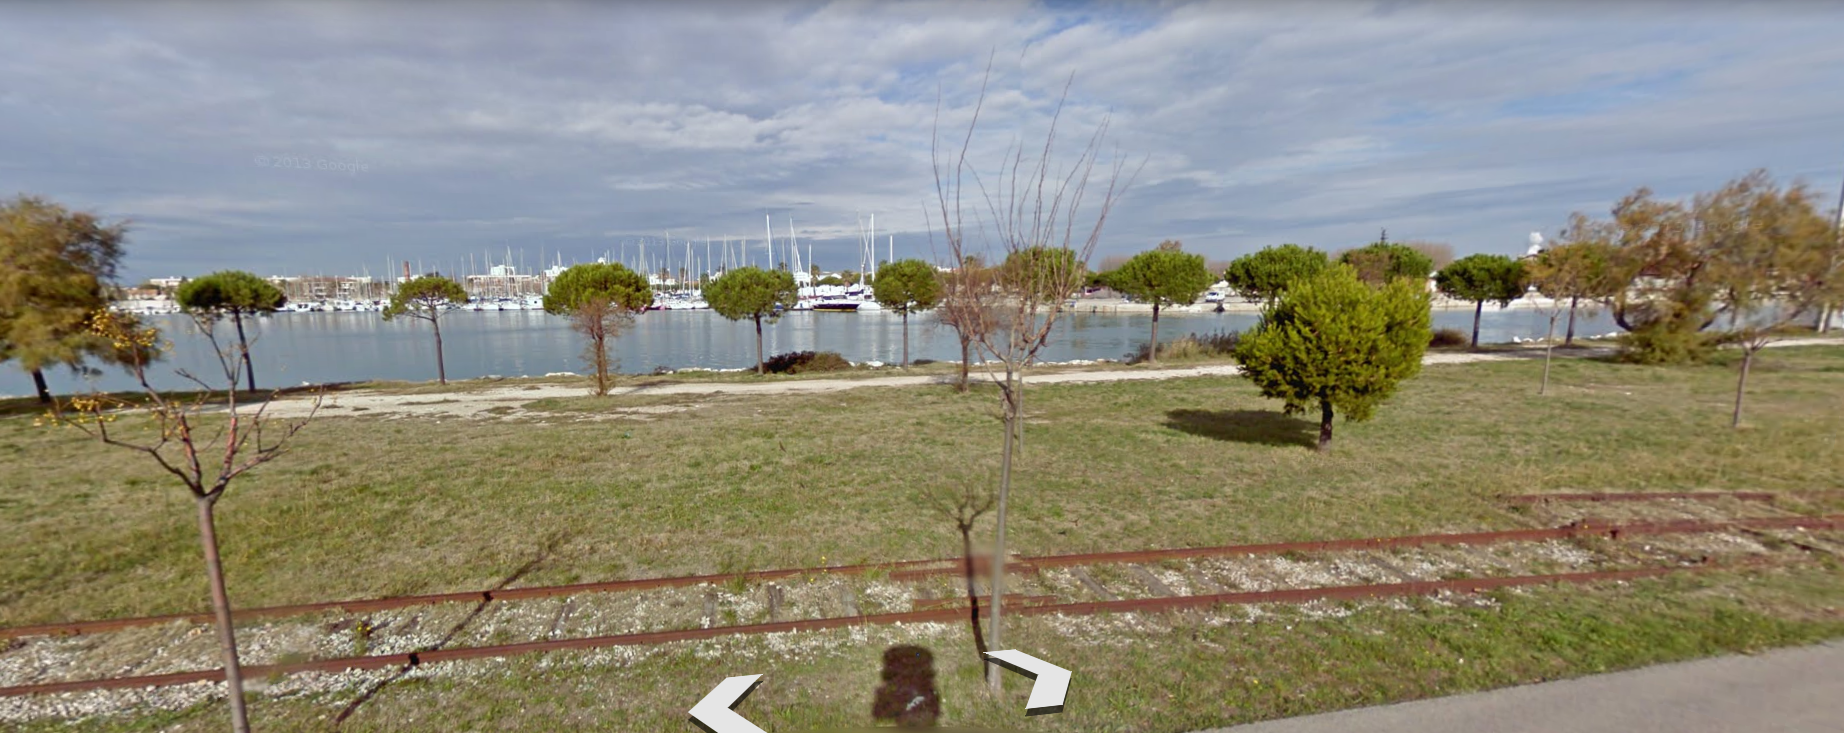Tree: (8, 192, 158, 425), (1249, 268, 1429, 455), (1543, 187, 1703, 379), (179, 254, 318, 397), (539, 261, 662, 401), (1105, 242, 1212, 368), (380, 276, 480, 402), (708, 260, 808, 372), (1443, 255, 1538, 361), (876, 252, 953, 362)
